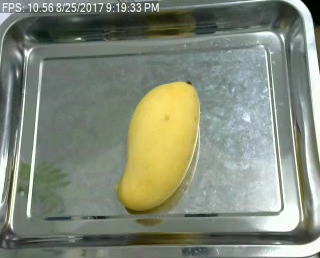Mango: (116, 79, 202, 211)
